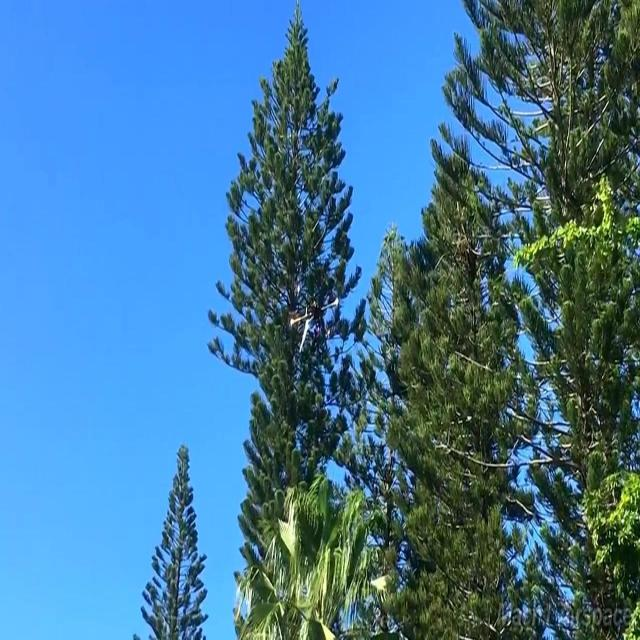UAV: (290, 298, 338, 353)
